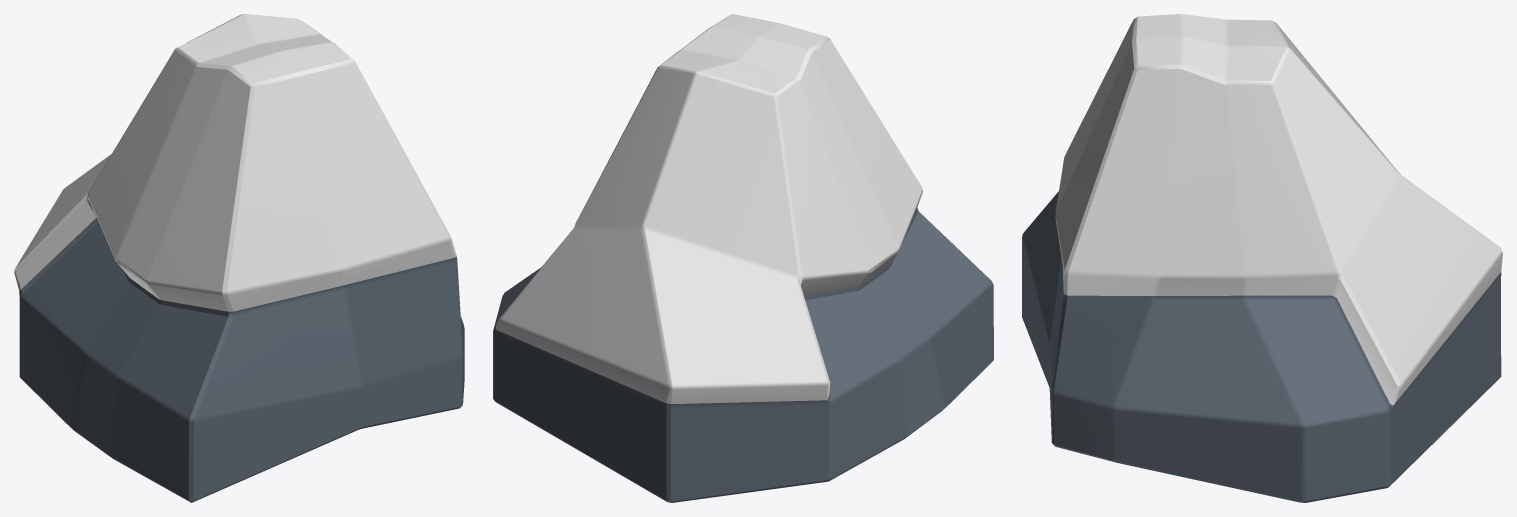
File: Rock_3 with Snow.fbx
3 renders of one model, left to right at view 1: azimuth 30°, elevation 25°; view 2: azimuth 150°, elevation 25°; view 3: azimuth 270°, elevation 25°, orthographic. The views are drawn at different scales.
Parts seen in each view (by area): view 1: rock_3_with_snow; view 2: rock_3_with_snow; view 3: rock_3_with_snow.
Part boxes in pixels (x1=…): rock_3_with_snow: x1=14, y1=14, x2=464, y2=502; rock_3_with_snow: x1=493, y1=14, x2=993, y2=502; rock_3_with_snow: x1=1022, y1=14, x2=1502, y2=502.
Bounding box in the file's own units: 1.72 × 1.52 × 1.78.
